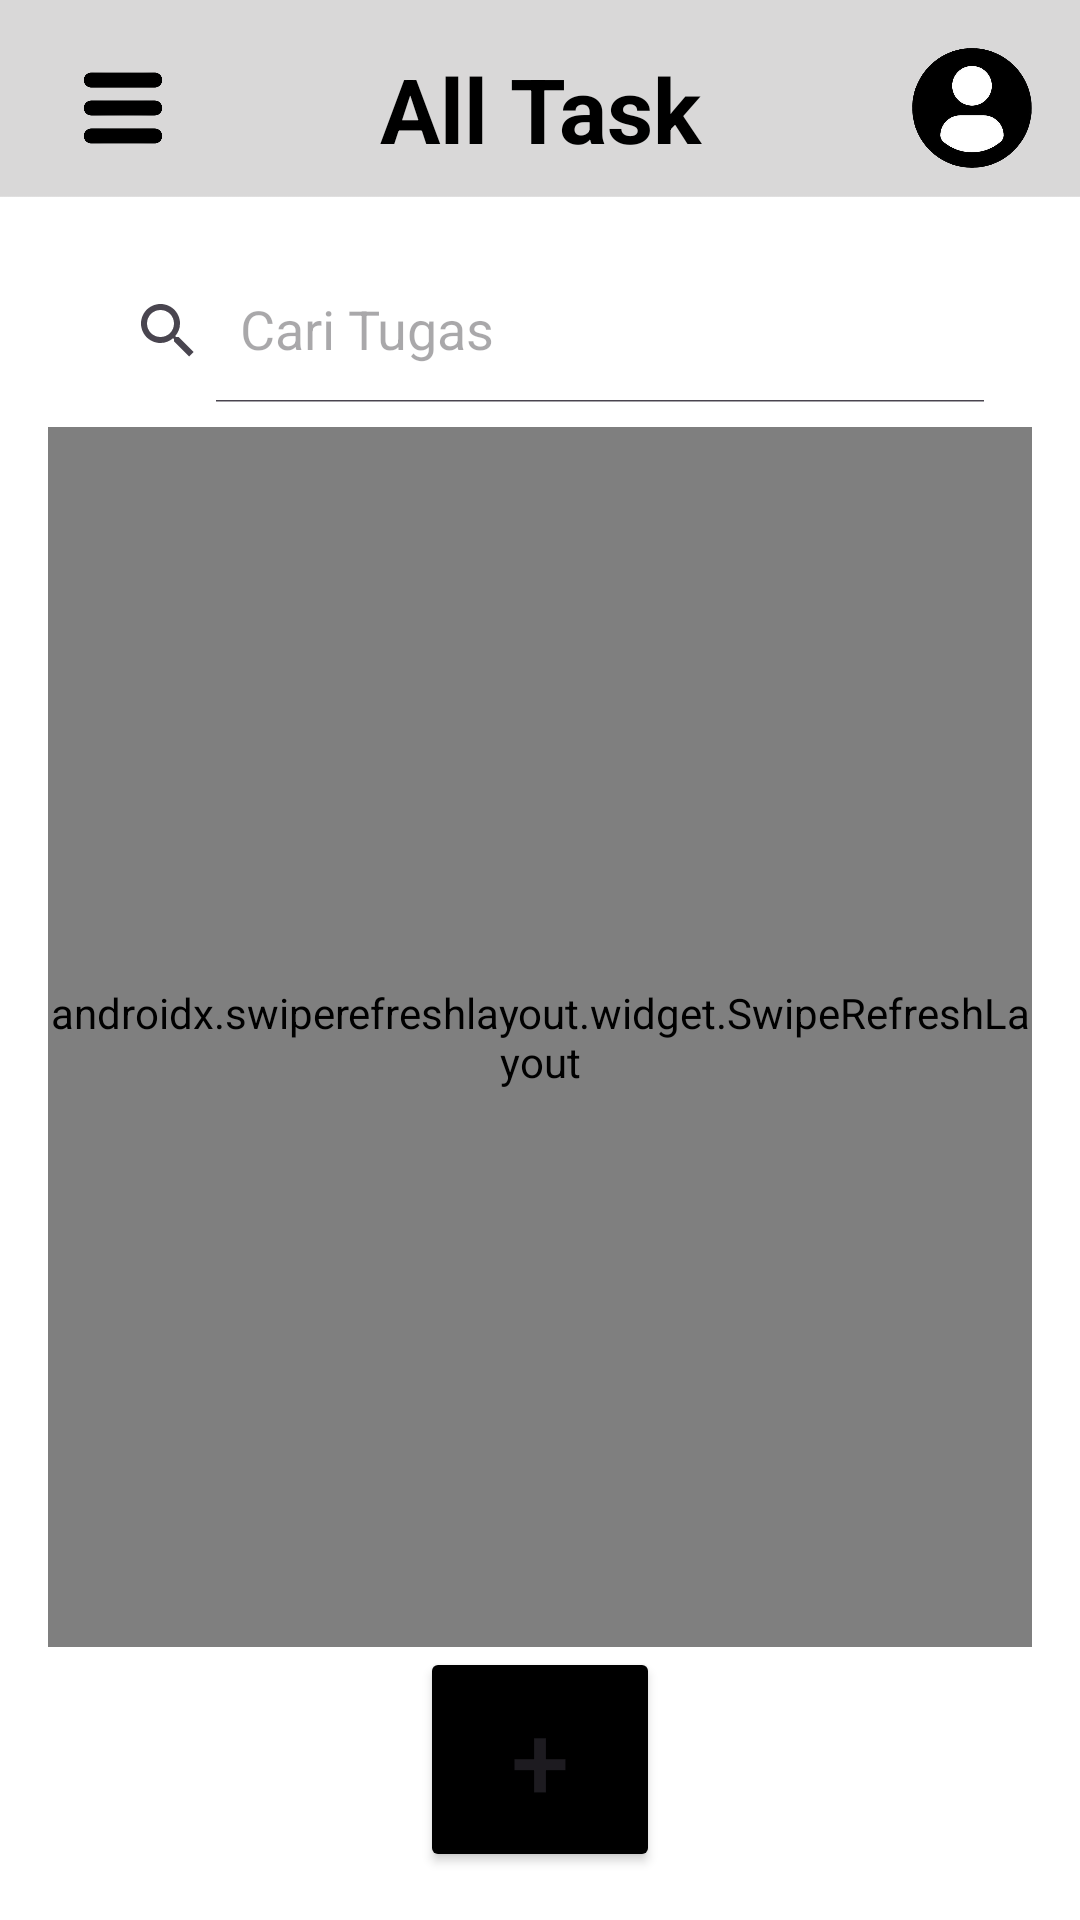

Locate icon controls on the screen. Image size 1080 x 1920, boxes as bbox=(x1, y1, x2, y2).
dashboard menu: bbox=(84, 72, 162, 144)
profil: bbox=(912, 48, 1032, 168)
